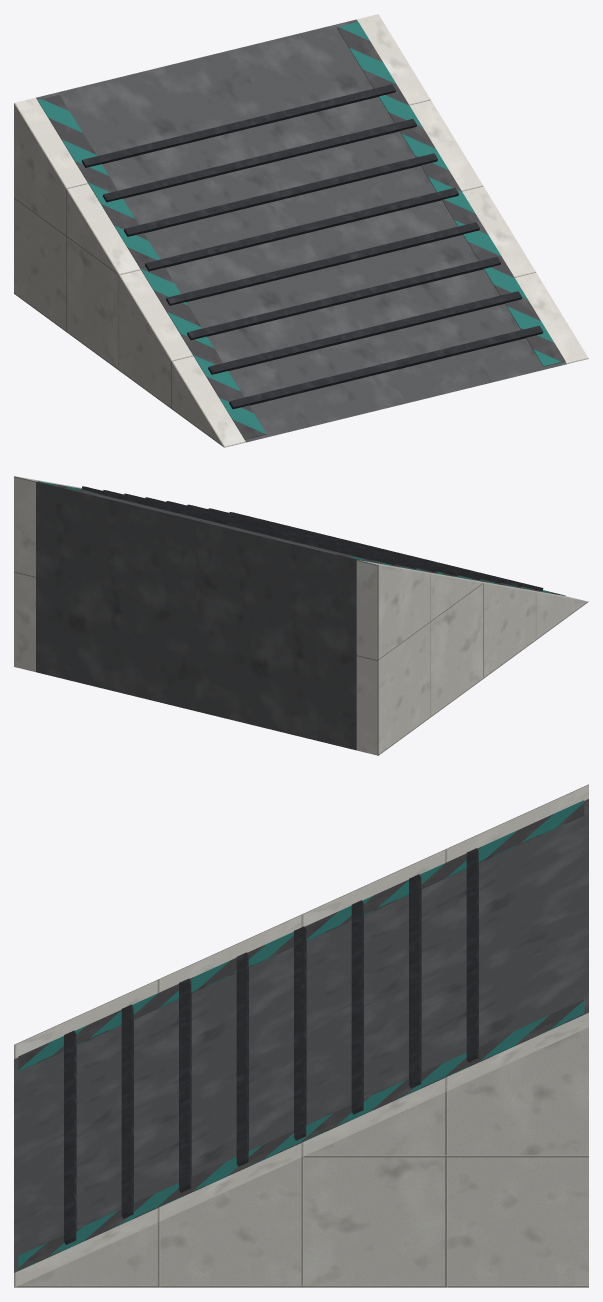
Rendered from ramp.glb.
3 renders of one model, top to bottom at view 1: azimuth 30°, elevation 25°; view 2: azimuth 150°, elevation 25°; view 3: azimuth 270°, elevation 25°, orthographic. The views are drawn at different scales.
Parts seen in each view (by area): view 1: Ramp_gunmetal, Ramp_whitePanels, Ramp_dark, Ramp_stripes; view 2: Ramp_gunmetal, Ramp_whitePanels, Ramp_dark, Ramp_stripes; view 3: Ramp_whitePanels, Ramp_gunmetal, Ramp_dark, Ramp_stripes.
Part boxes in pixels (x1,y1,x2,y2): Ramp_gunmetal: (36,19,566,442); Ramp_whitePanels: (14,14,588,447); Ramp_dark: (81,84,543,409); Ramp_stripes: (37,22,565,439); Ramp_gunmetal: (36,481,362,750); Ramp_whitePanels: (14,476,588,755); Ramp_dark: (82,486,543,590); Ramp_stripes: (37,481,565,595); Ramp_whitePanels: (14,784,588,1287); Ramp_gunmetal: (14,799,588,1272); Ramp_dark: (64,848,478,1244); Ramp_stripes: (18,800,584,1270).
Bounding box in the file's own units: 2 × 1 × 2.
4 materials, 4 textured.
